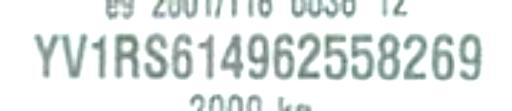letter: (400, 31, 432, 82), (112, 31, 142, 82), (60, 28, 88, 81), (429, 31, 457, 84), (294, 31, 322, 82), (323, 31, 351, 82), (349, 31, 377, 82), (457, 31, 485, 82), (143, 31, 171, 82), (217, 31, 245, 82), (168, 28, 194, 81), (31, 31, 59, 78), (378, 31, 402, 82), (89, 28, 111, 81), (246, 31, 270, 78), (272, 31, 296, 78), (194, 31, 216, 78)
